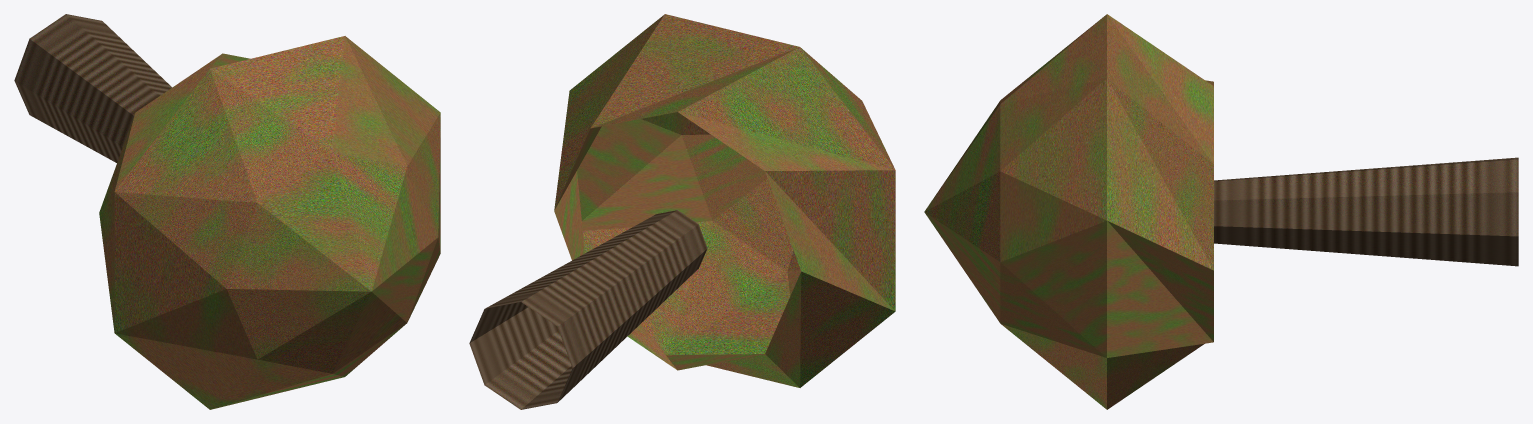
File: tree.obj
3 views of the same model, side by side, from view 1: azimuth 30°, elevation 25°; view 2: azimuth 150°, elevation 25°; view 3: azimuth 270°, elevation 25° (orthographic). The views are drawn at different scales.
Bounding box in the file's own units: 2.4 × 2.4 × 3.9.
Materials: 2 (2 with a texture image).
